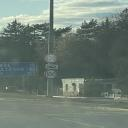speed_limit_100: (43, 68, 59, 81)
speed_limit_120: (42, 52, 60, 64)
